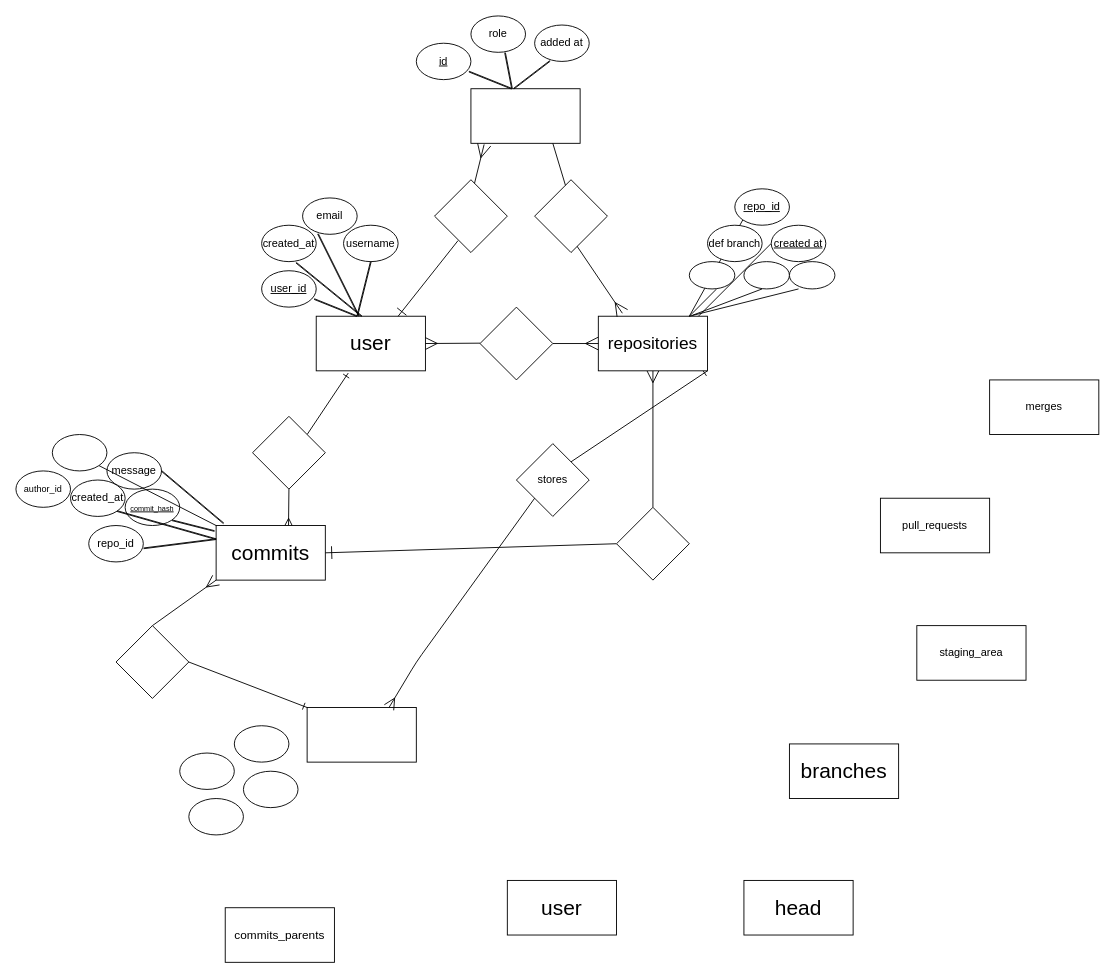
This 1115x978 diagram has some shape labels left out. Here are the shapes that lost their labels. From the top down, the centre of each, then its label:
At (525,115): "collaborators".
At (470,216): "act as".
At (570,216): "has".
At (711,275): "repo_name".
At (766,275): "desc".
At (812,275): "is priv".
At (516,343): "owns".
At (79,452): "tree_hash".
At (288,452): "makes".
At (652,543): "contains".
At (152,661): "referenced by".
At (361,734): "objects".
